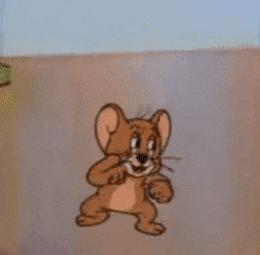jerry: (76, 102, 184, 237)
